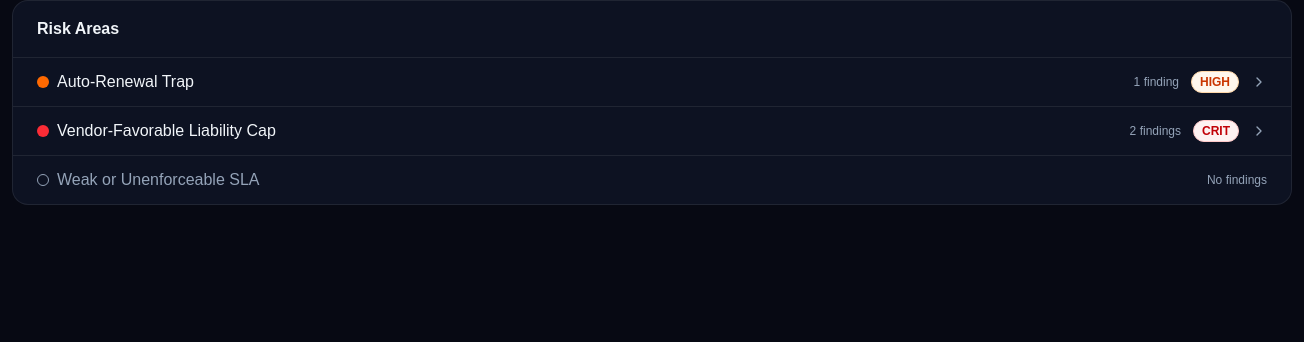
Test: RiskAreasPanel › expands on click and reveals quoted evidence with clause_reference badge
Click the button "Auto-Renewal Trap 1 finding HIGH". click: (125, 82)
box: [13, 58, 1291, 106]
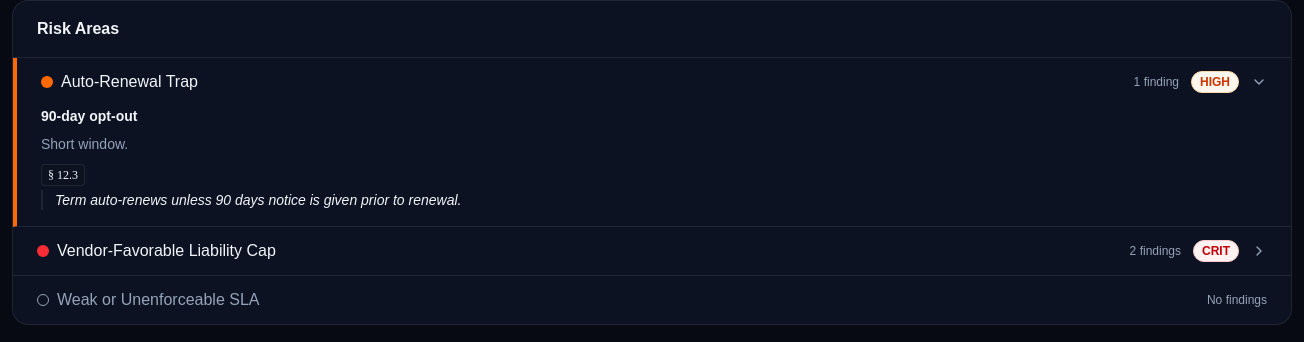
Check: the button "Auto-Renewal Trap 1 finding HIGH" is expanded, box [17, 58, 1291, 106]
Check: the text "§ 12.3" is shown, box [41, 164, 85, 186]
Check: the text "Term auto-renews unless 90 days notice" is shown, box [55, 192, 462, 208]
